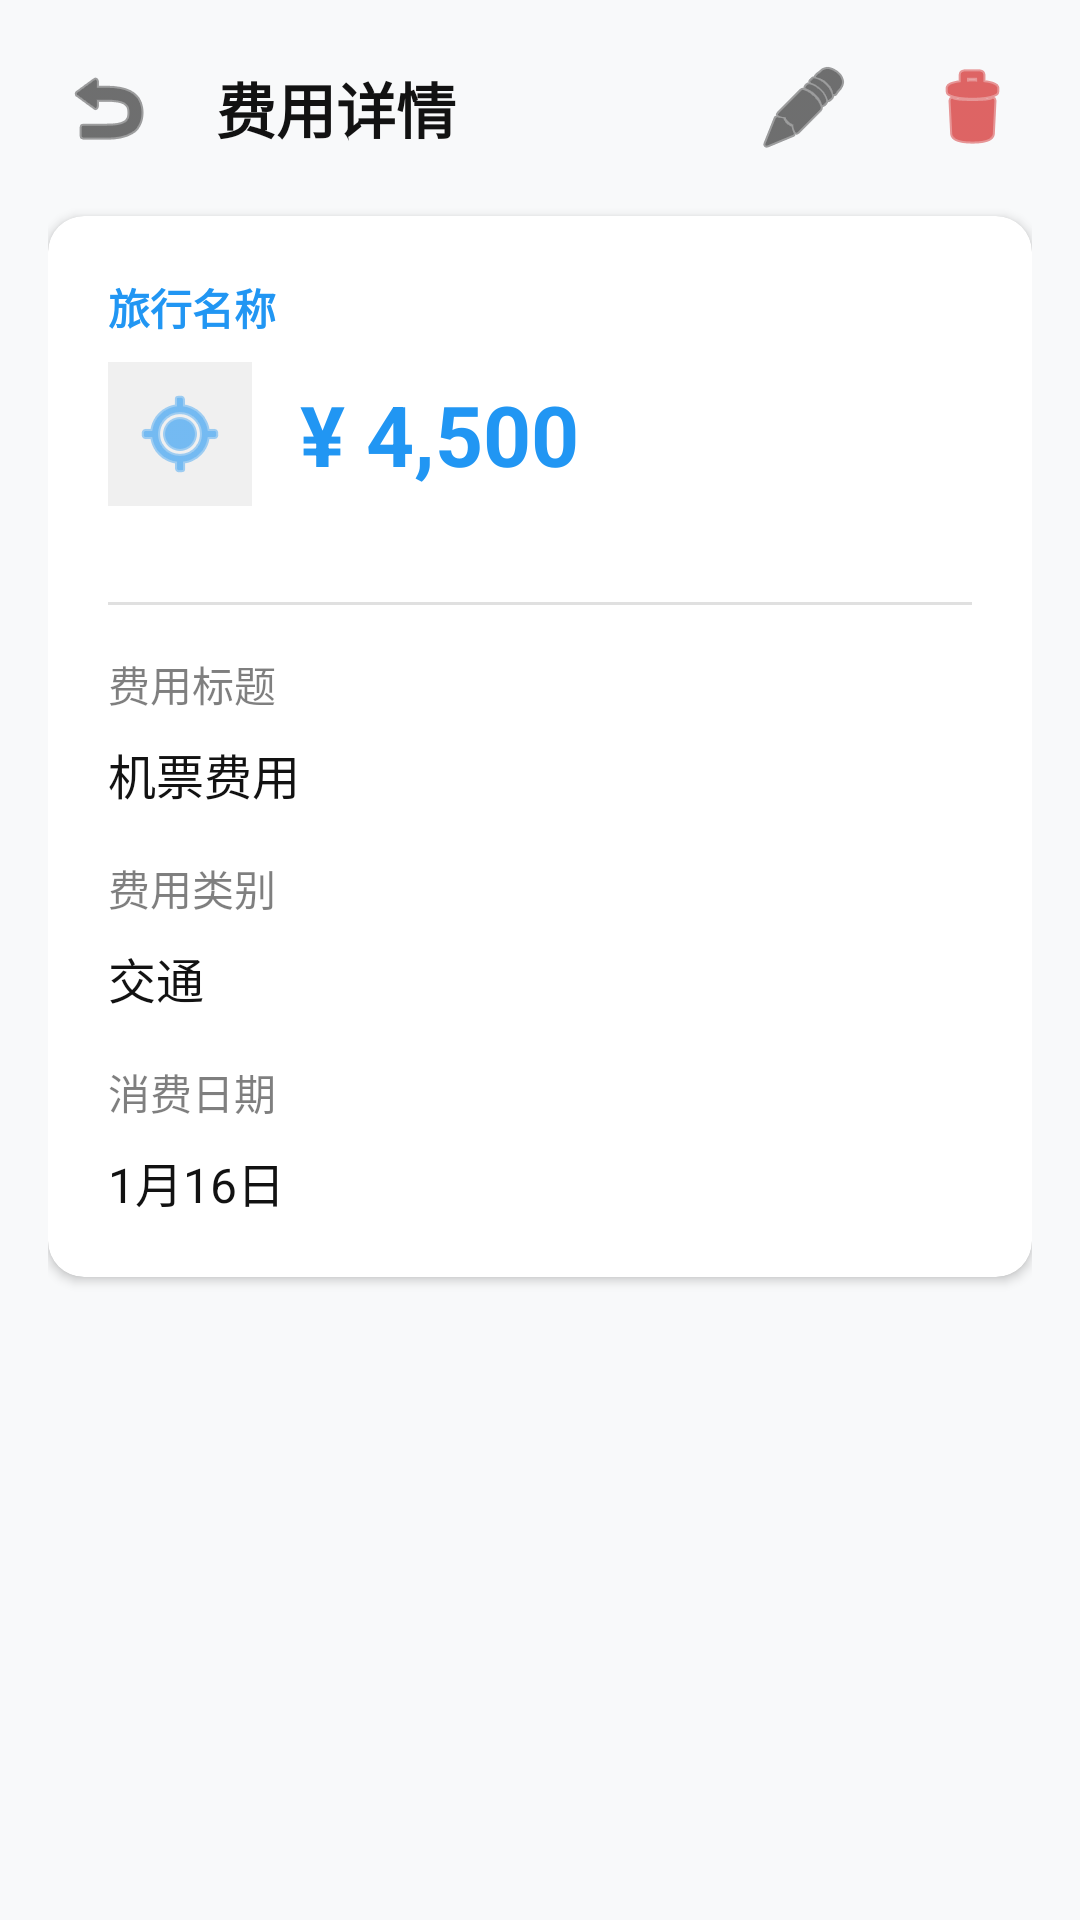

Locate icon controls on the screen. Image size 1080px×1920px, boxes as (x1, y1, x2, y2).
delete: (945, 69, 1000, 144)
edit: (763, 67, 844, 148)
mylocation: (108, 362, 252, 506)
revert: (75, 77, 144, 140)
